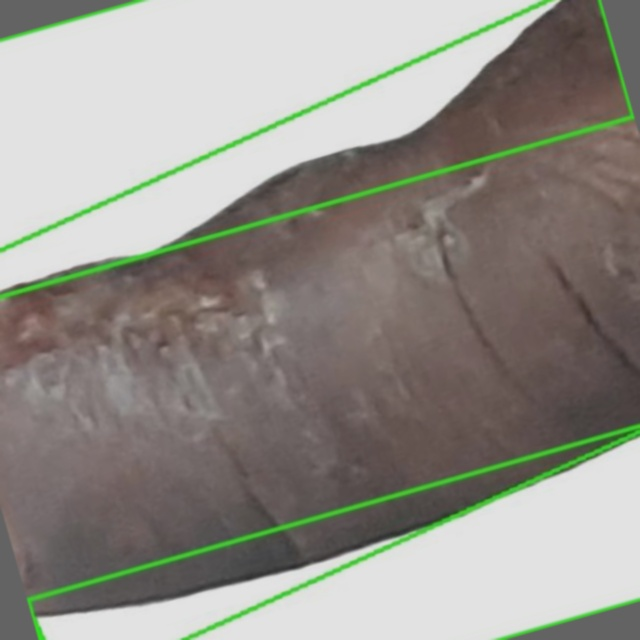Eczema: (0, 0, 639, 639), (0, 0, 633, 296), (27, 426, 639, 639)
